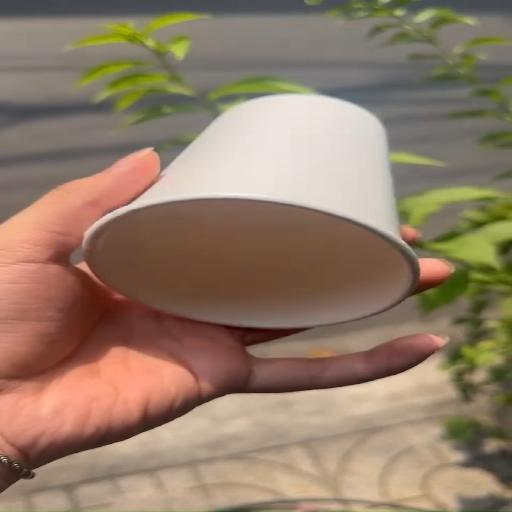ly_giay: (84, 94, 418, 329)
